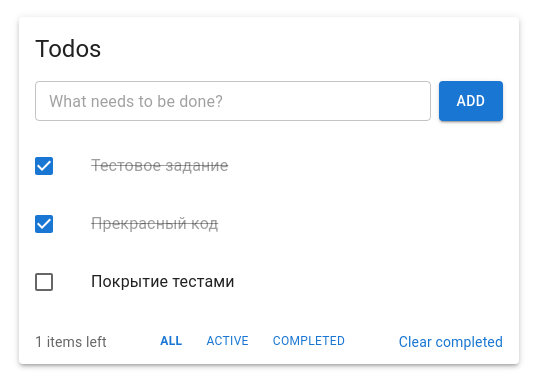
Todo Component › clears completed tasks
Click the text "Clear completed" at (451, 342), box [399,332,503,352]
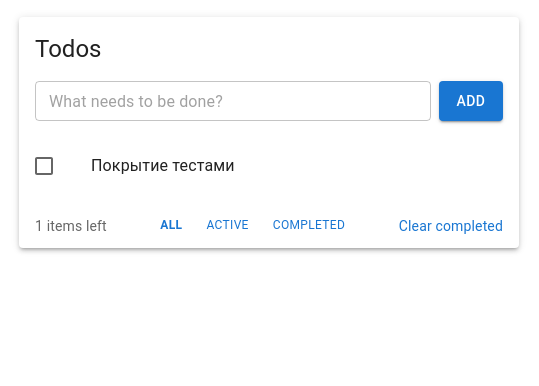
Check: the text "Покрытие тестами" is shown, box [91,156,235,175]
Check: the button "Тестовое задание" is gone
